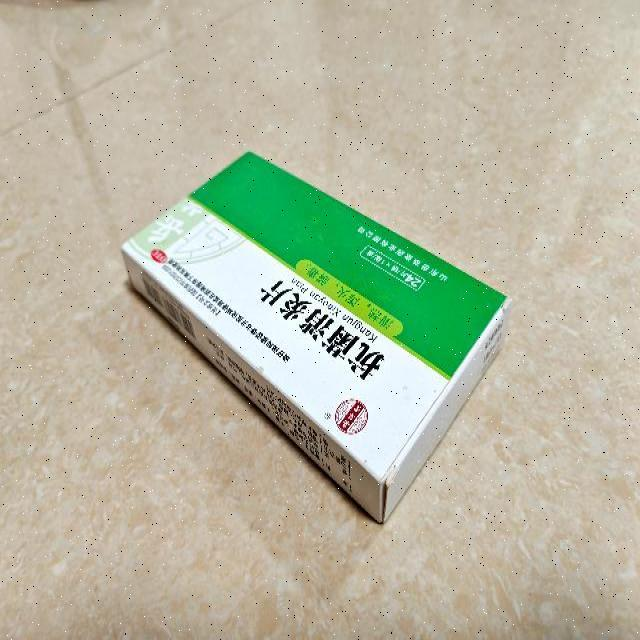box: (121, 146, 513, 522)
